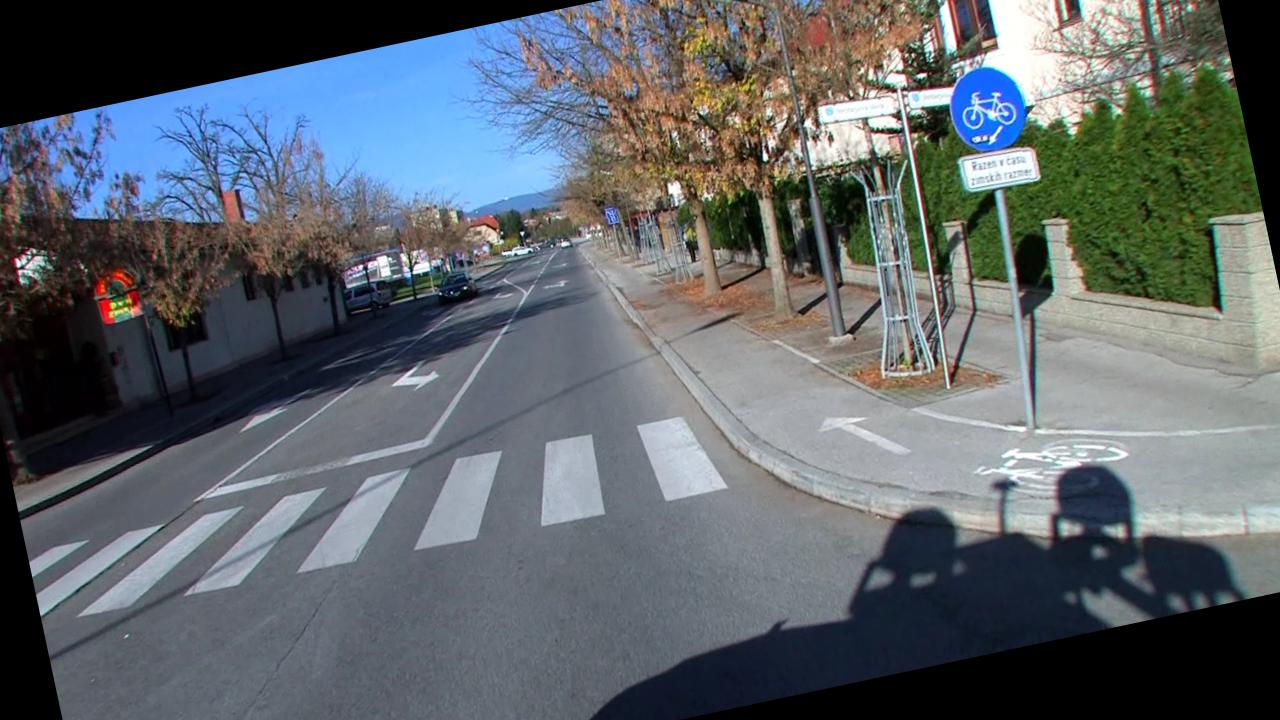Rectangle: (952, 140, 1042, 197), (603, 206, 620, 226)
Round: (943, 58, 1033, 158)
